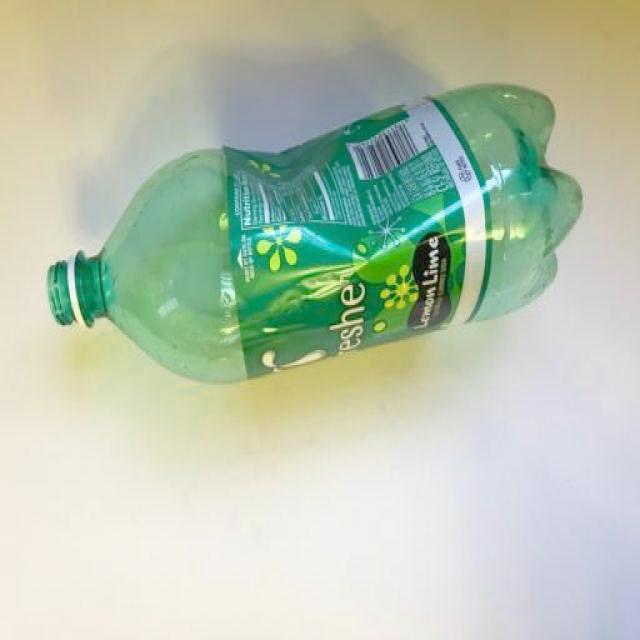bottle: (46, 83, 585, 384)
